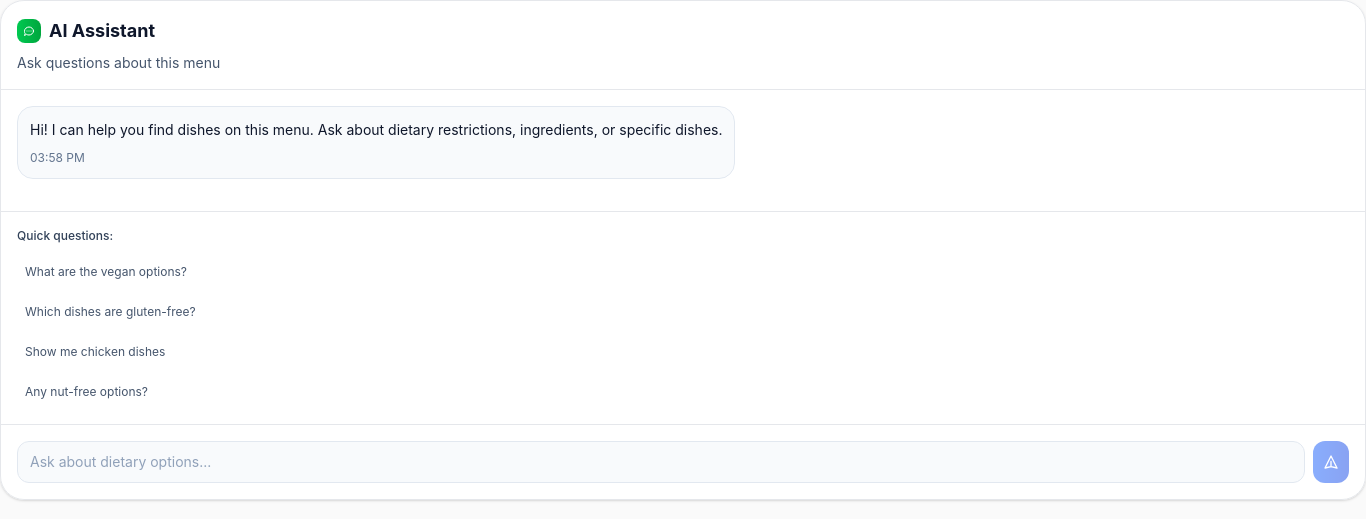
Scenario: ChatInterface › handles quick question selection
Click the button "What are the vegan options?". click: coordinates (106, 271)
box: [17,256,1349,288]
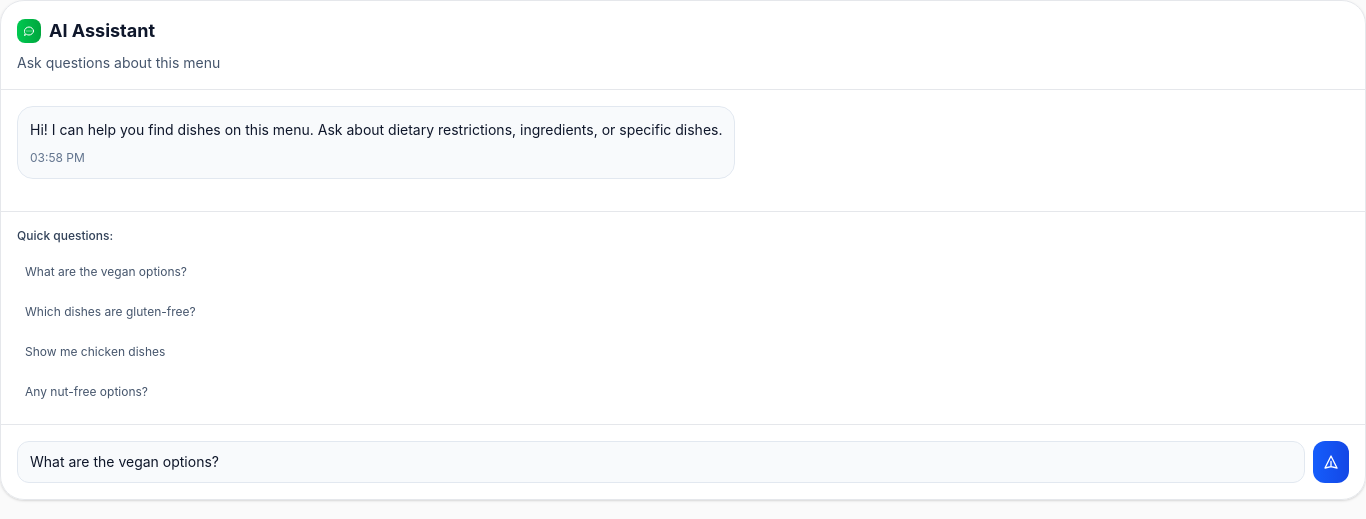
expect the field with placeholder "Ask about dietary options..." holds "What are the vegan options?": met, box [17,441,1305,483]
